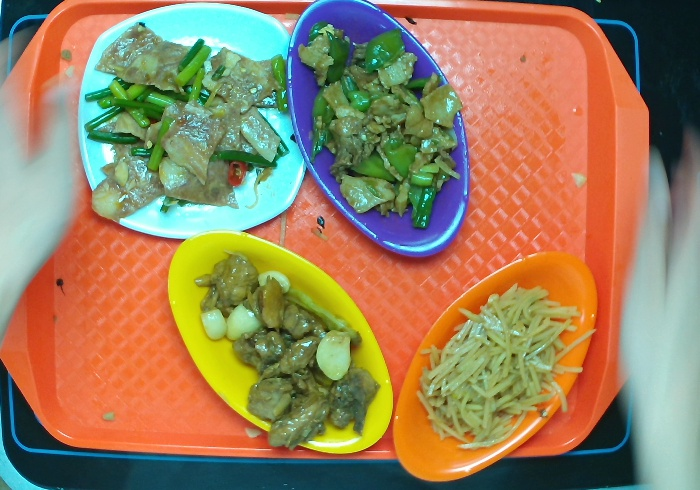RJxy-Fen_Hong_Tuo_Yuan: (284, 1, 472, 259)
RJxy-Huang_Se_Tuo_Yuan: (166, 229, 395, 456)
RJxy-Ju_Huang_Tuo_Yuan: (391, 250, 599, 484)
RJxy-Si_Fang_Die: (76, 1, 308, 240)
